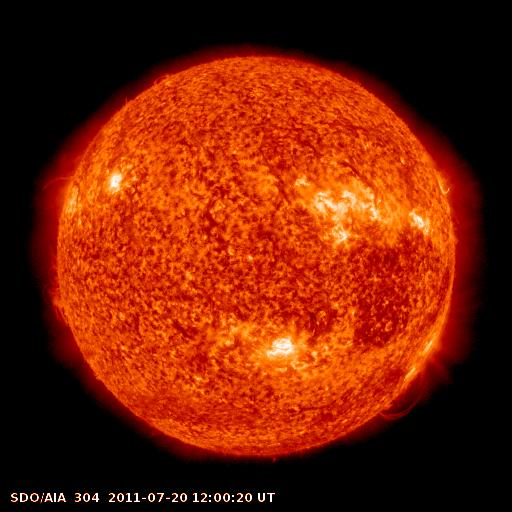prominence: (374, 358, 433, 431), (40, 246, 80, 337), (34, 142, 83, 196), (145, 69, 178, 92)
